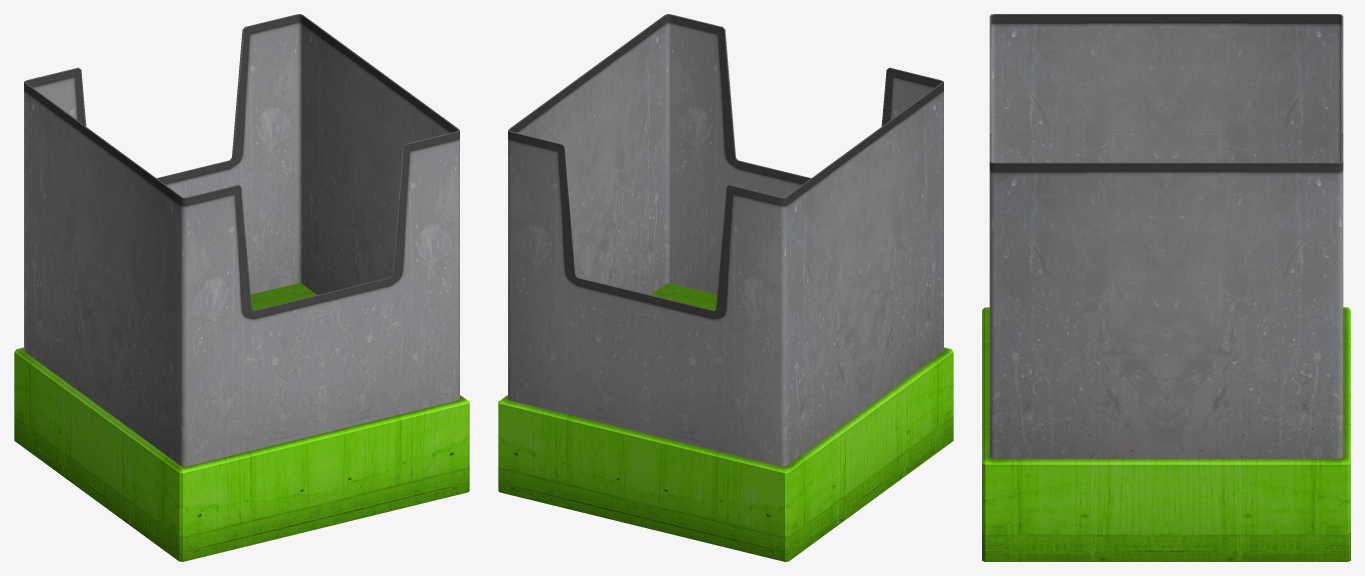
The model's file is bin_green.dae.
3 views of the same model, side by side, from view 1: azimuth 30°, elevation 25°; view 2: azimuth 150°, elevation 25°; view 3: azimuth 270°, elevation 25° (orthographic). The views are drawn at different scales.
Parts seen in each view (by area): view 1: Bin; view 2: Bin; view 3: Bin.
Boxes of the visible parts, box(x1,y1,x2,y2) form: Bin: box(14, 14, 469, 561); Bin: box(498, 14, 953, 561); Bin: box(982, 14, 1350, 561).
Bounding box in the file's own units: 668 × 668 × 791.
